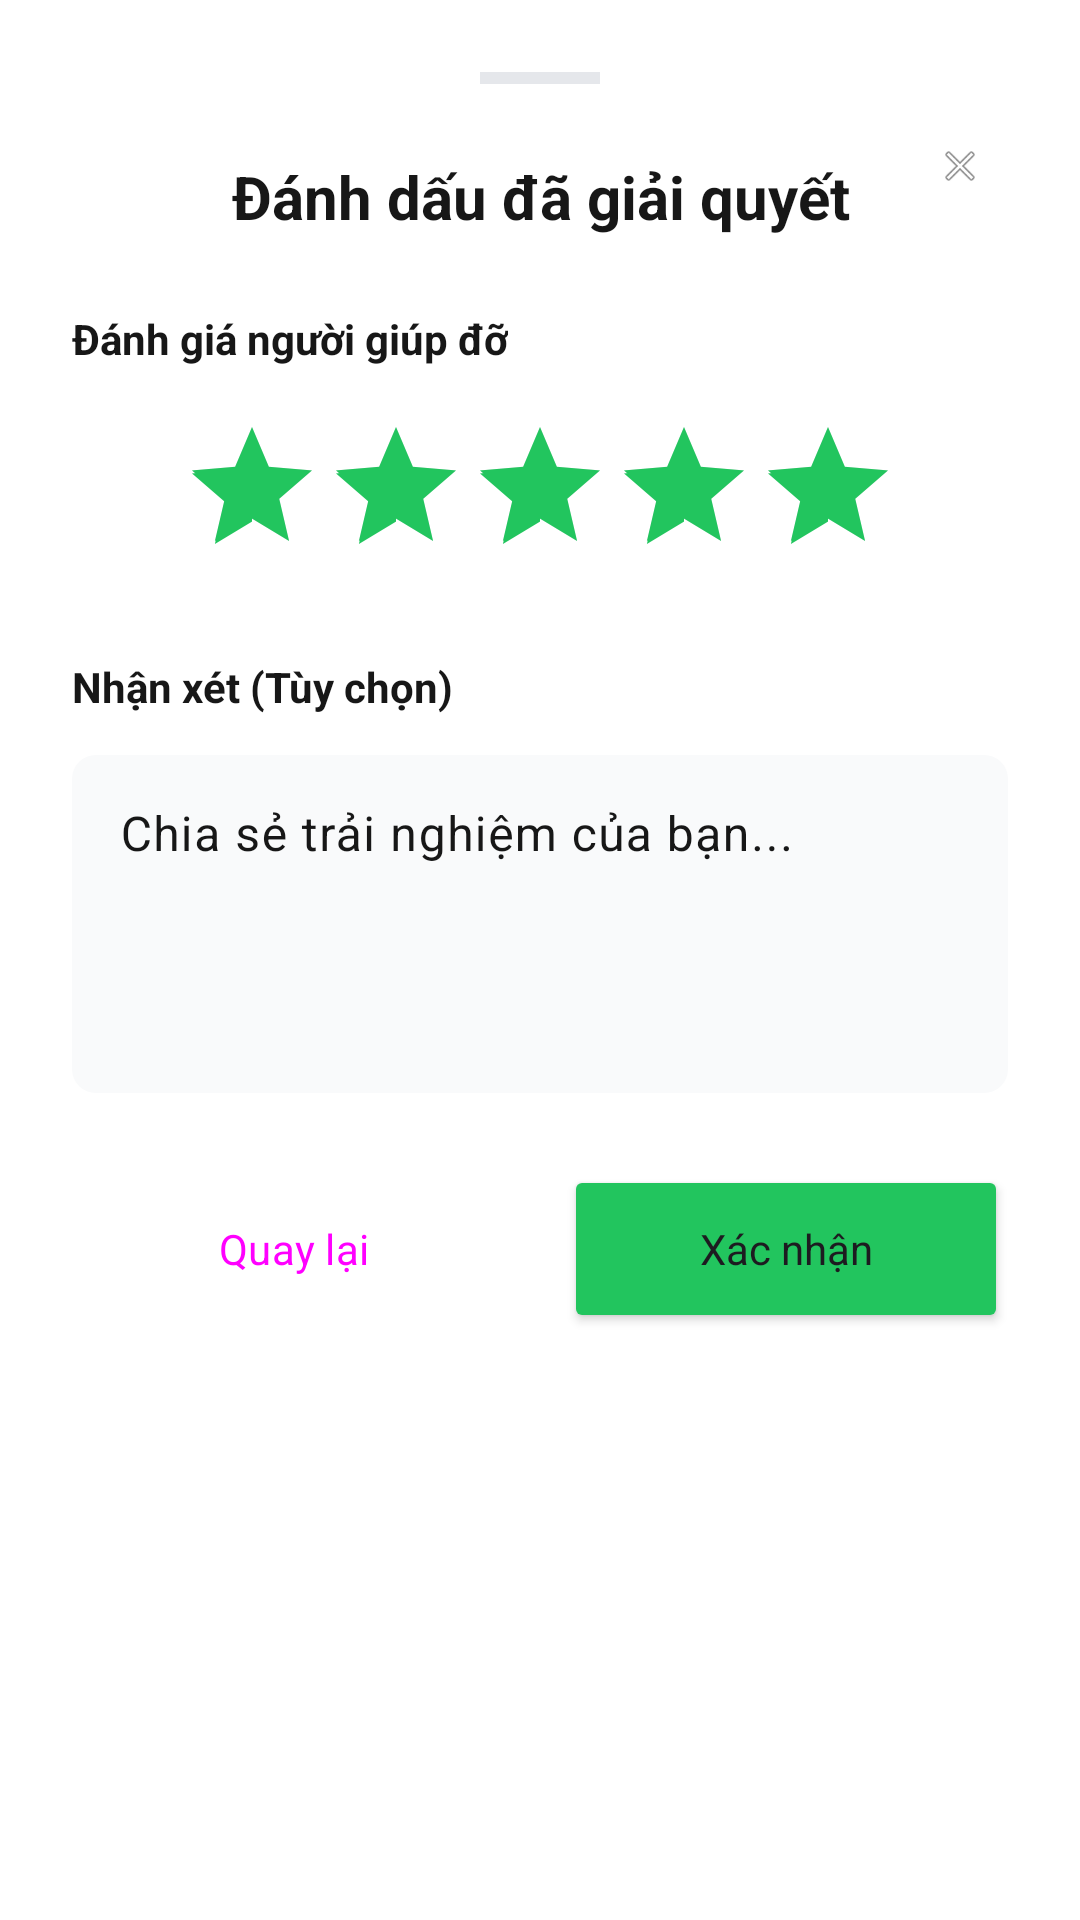

Locate icon controls on the screen. Image size 1080px×1920px, boxes as (left=x1, top=y1, right=x2, bottom=y2).
Đóng: (left=945, top=151, right=975, bottom=181)
